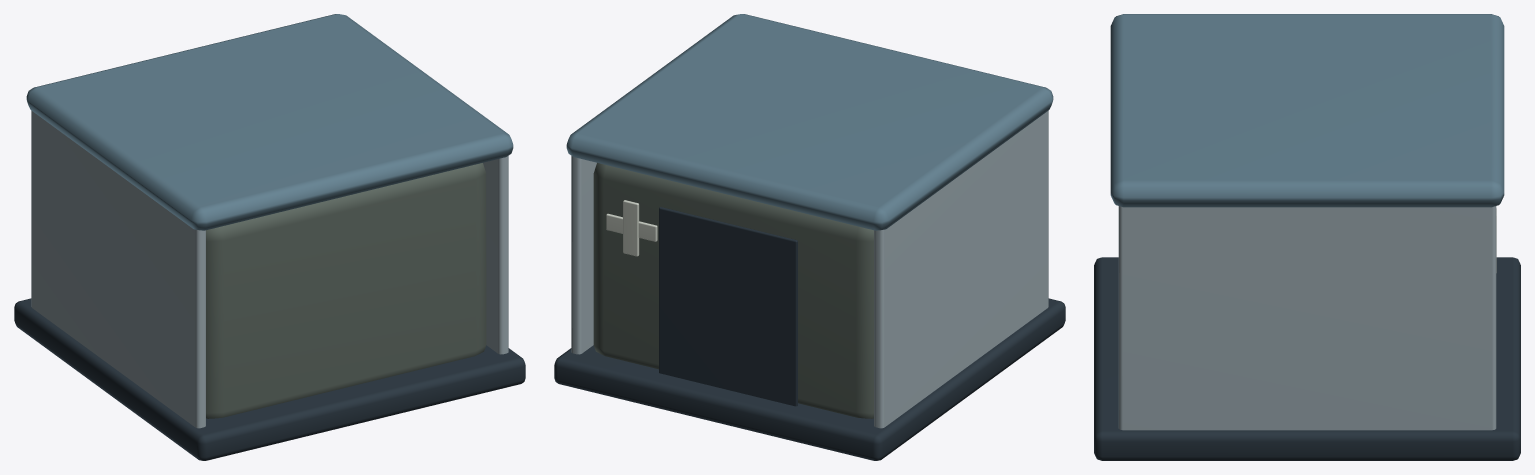
File: 30_medical_shelter.glb
3 views of the same model, side by side, from view 1: azimuth 30°, elevation 25°; view 2: azimuth 150°, elevation 25°; view 3: azimuth 270°, elevation 25° (orthographic). The views are drawn at different scales.
Visible parts, largest first — view 1: Roof armor, Shelter body, Shelter rib, Shelter platform; view 2: Roof armor, Shelter platform, Shelter rib, Shelter body, Medical cross H; view 3: Shelter rib, Roof armor, Shelter platform.
Boxes of the visible parts, x1,y1,x2,y2 form: Roof armor: (26,14,513,230); Shelter body: (206,163,486,418); Shelter rib: (31,110,508,428); Shelter platform: (14,298,525,460); Roof armor: (566,14,1053,230); Shelter platform: (554,207,1065,460); Shelter rib: (571,110,1048,428); Shelter body: (593,163,873,418); Medical cross H: (606,200,657,256); Shelter rib: (1118,206,1496,430); Roof armor: (1110,14,1504,207); Shelter platform: (1094,257,1520,460).
Size of the model in its own units: 2.6 by 1.86 by 2.6.
